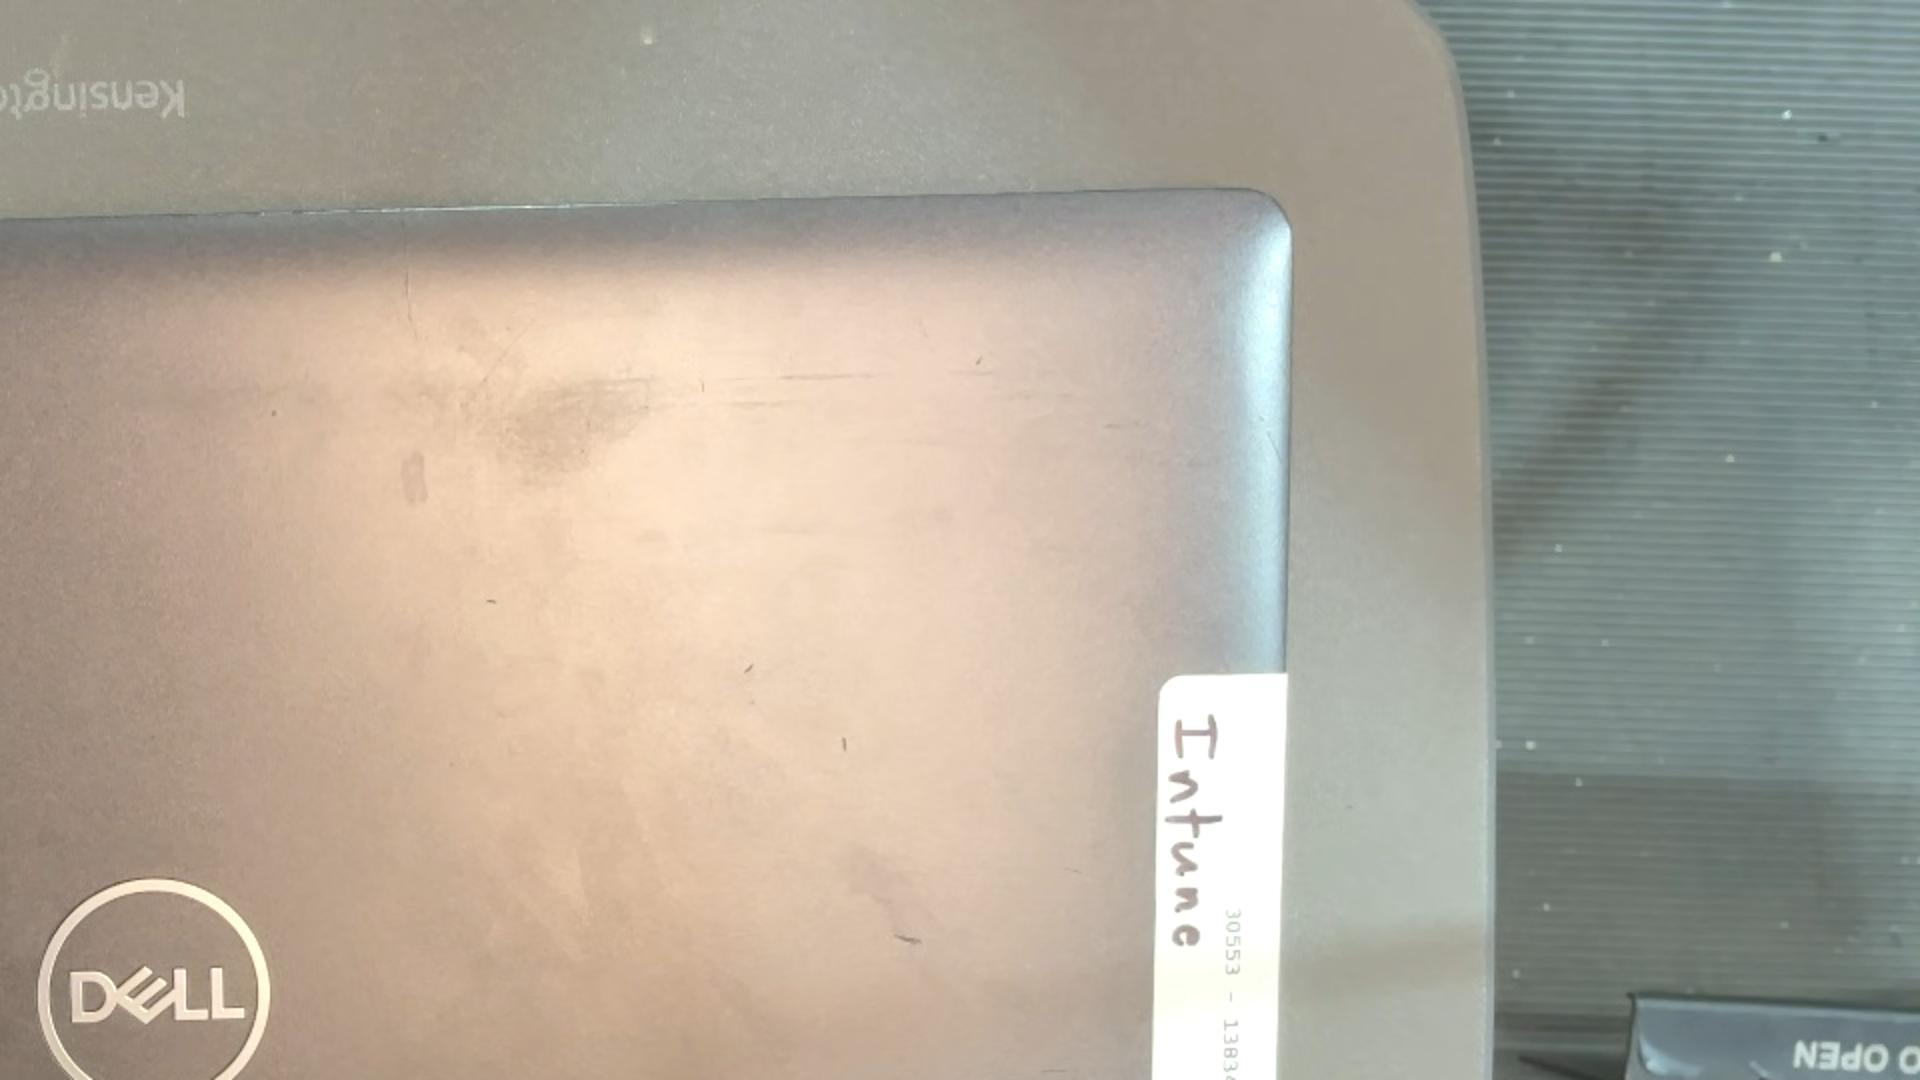scratches: (766, 371, 885, 382), (404, 272, 419, 339), (893, 932, 924, 947), (975, 353, 986, 367), (1040, 1068, 1068, 1073), (744, 662, 756, 674), (699, 376, 707, 393), (841, 736, 849, 753), (485, 597, 500, 607)
